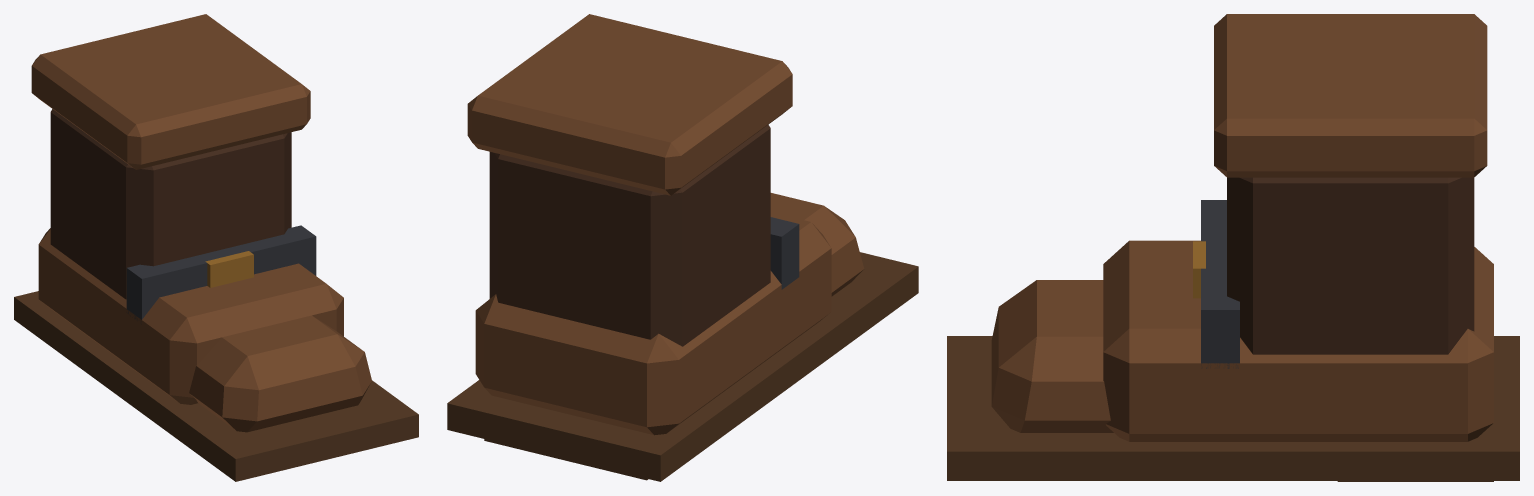
File: boot.fbx
3 renders of one model, left to right at view 1: azimuth 30°, elevation 25°; view 2: azimuth 150°, elevation 25°; view 3: azimuth 270°, elevation 25°, orthographic. The views are drawn at different scales.
Parts seen in each view (by area): view 1: Boot; view 2: Boot; view 3: Boot.
Part boxes in pixels (bbox=[...]): Boot: bbox=[14, 14, 418, 481]; Boot: bbox=[447, 14, 918, 481]; Boot: bbox=[947, 14, 1519, 481].
Size of the model in its own units: 0.21 by 0.315 by 0.44.
1 material, 1 textured.
